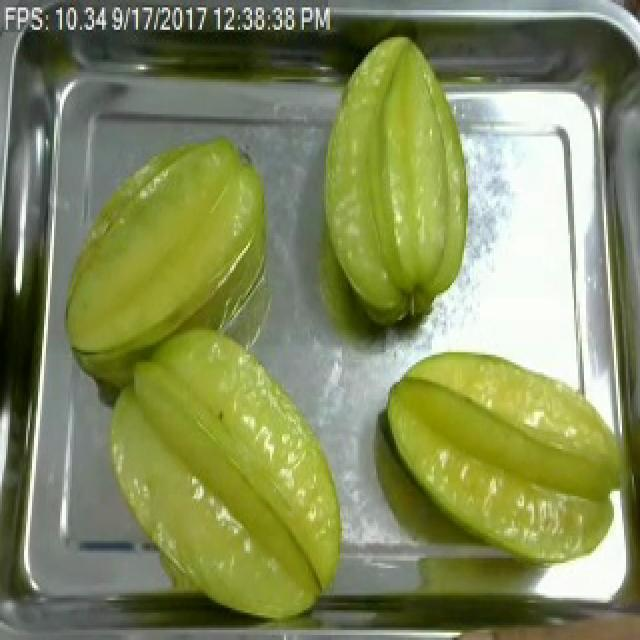fruit: (92, 310, 354, 635), (374, 340, 638, 573), (304, 20, 486, 340), (56, 126, 278, 374)
